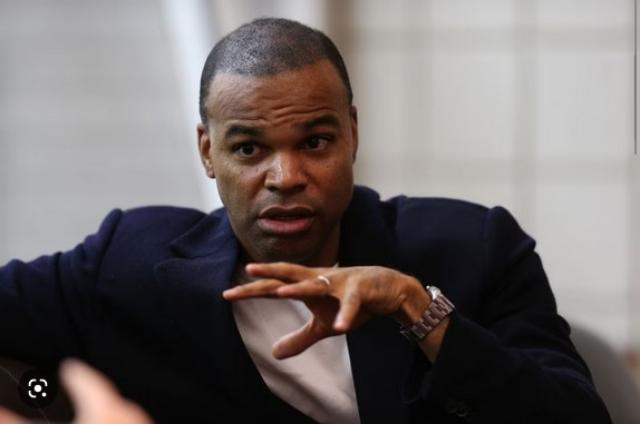forehead: (298, 100, 336, 115), (272, 100, 292, 128), (236, 113, 270, 127)
